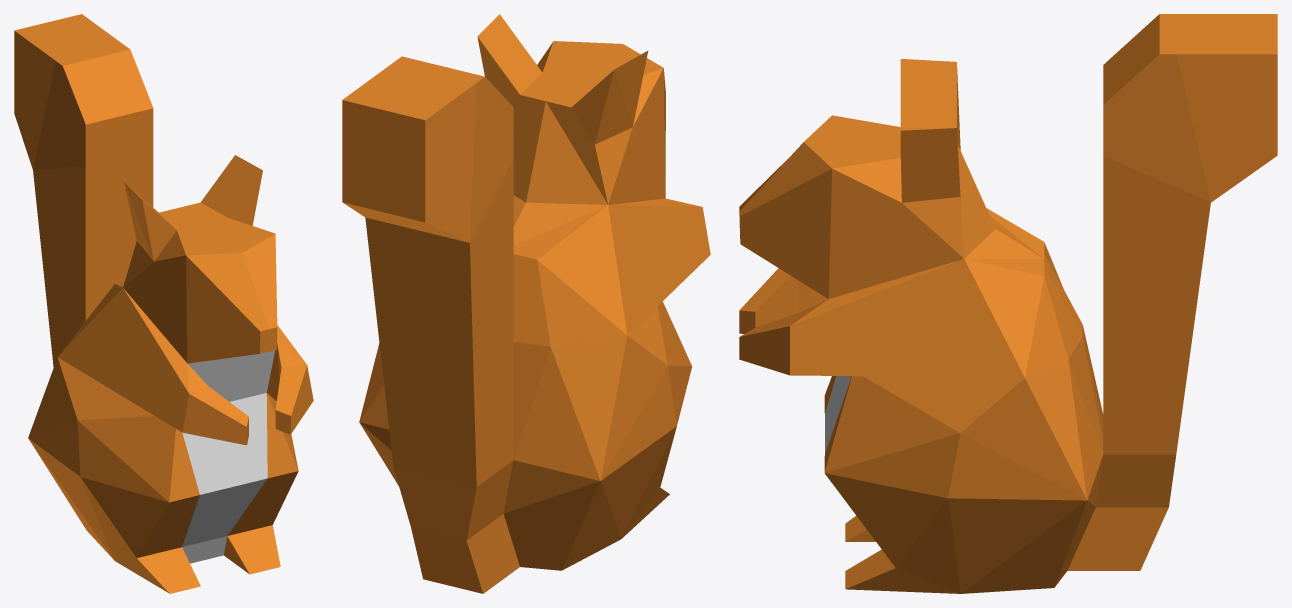
Rendered from agdilla.fbx.
3 renders of one model, left to right at view 1: azimuth 30°, elevation 25°; view 2: azimuth 150°, elevation 25°; view 3: azimuth 270°, elevation 25°, orthographic. The views are drawn at different scales.
Visible parts, largest first — view 1: Cube; view 2: Cube; view 3: Cube.
Part boxes in pixels (x1=…): Cube: x1=14, y1=14, x2=313, y2=593; Cube: x1=342, y1=14, x2=710, y2=593; Cube: x1=739, y1=14, x2=1277, y2=593.
Bounding box in the file's own units: 237 × 470 × 439.
